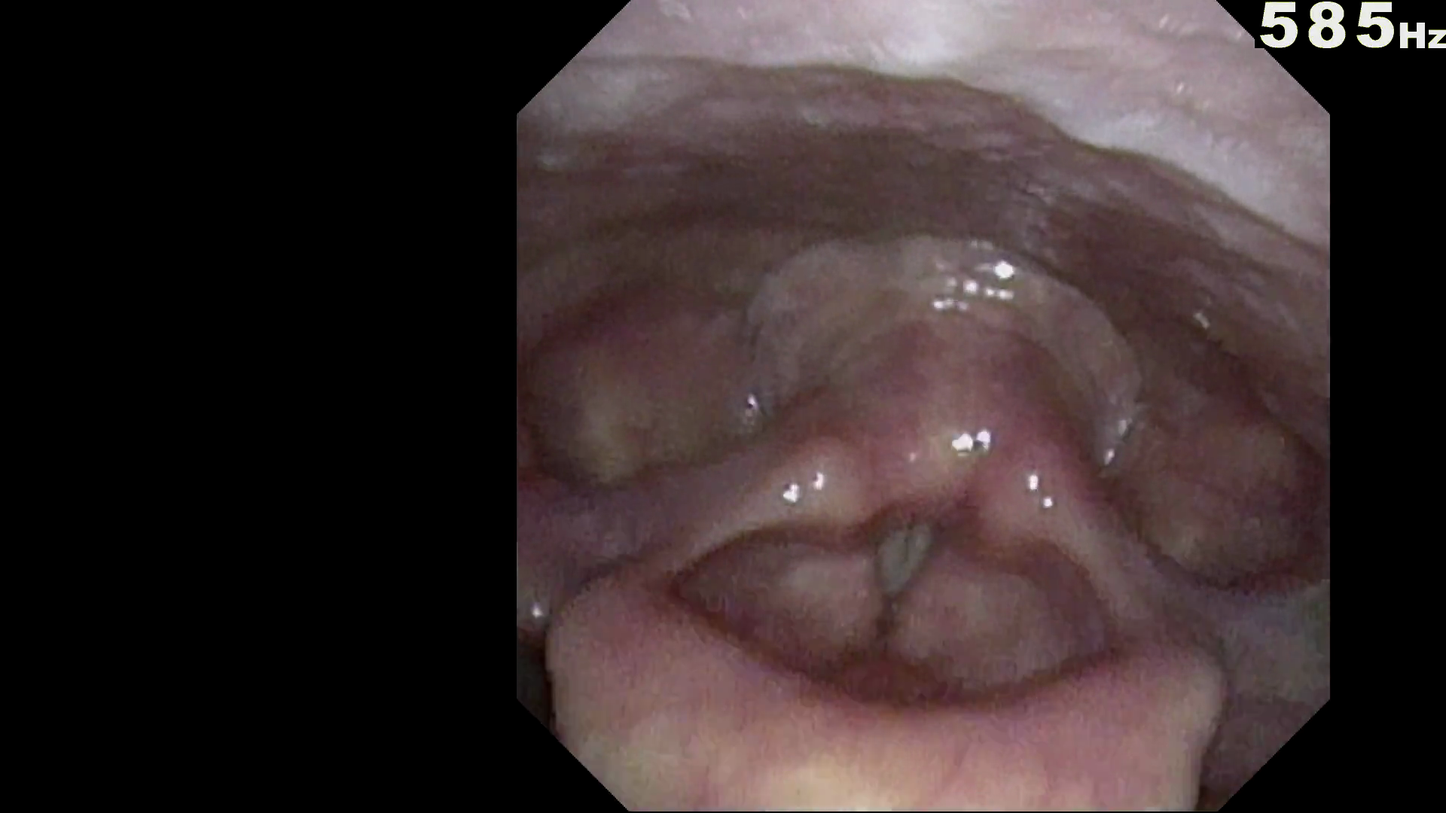epiglottis: (609, 631, 1211, 787)
trachea: (845, 493, 956, 628)
